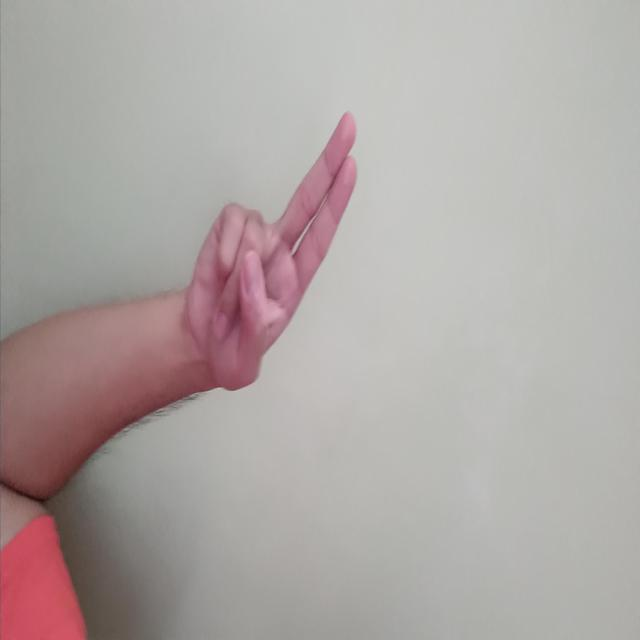U: (110, 280, 395, 455)
